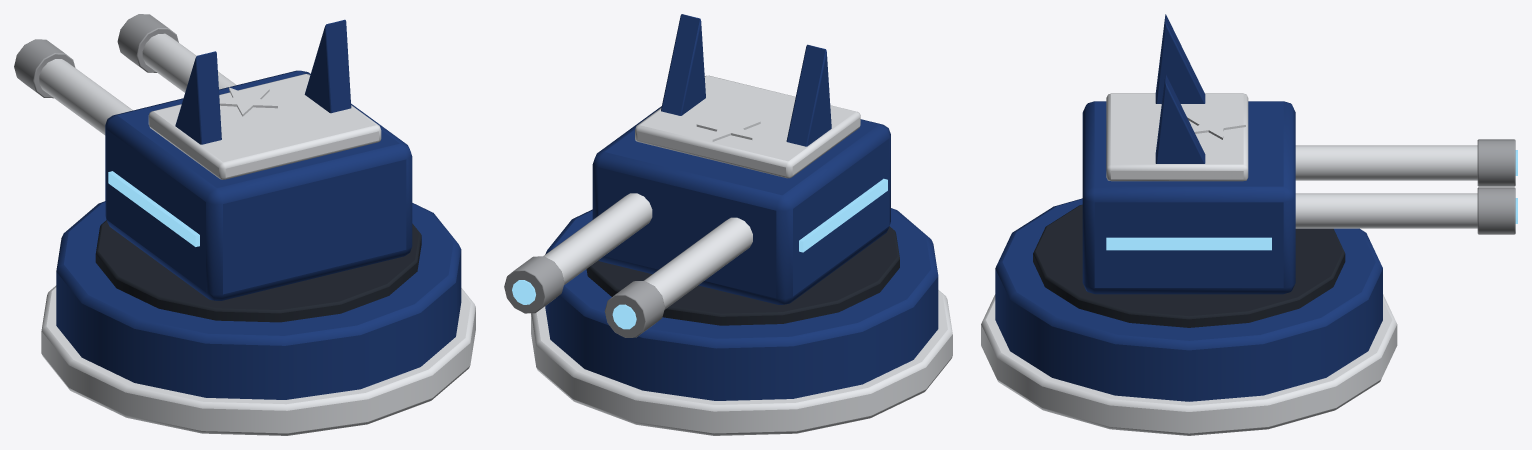
Rendered from shibas_turret_ground.glb.
3 views of the same model, side by side, from view 1: azimuth 30°, elevation 25°; view 2: azimuth 150°, elevation 25°; view 3: azimuth 270°, elevation 25° (orthographic). The views are drawn at different scales.
Visible parts, largest first — view 1: head, base, base_ring, base_top, head_top, barrel_-1, ear_1, ear_-1, barrel_1, muzzle_-1, muzzle_1, strip_-1 (+1 smaller); view 2: base, head, base_ring, head_top, base_top, barrel_1, barrel_-1, ear_-1, ear_1, muzzle_1, muzzle_-1, strip_-1 (+3 smaller); view 3: base, head, base_ring, base_top, head_top, barrel_-1, barrel_1, ear_1, strip_1, ear_-1, muzzle_-1, muzzle_1 (+1 smaller).
Boxes of the visible parts, x1=… form: head: x1=105, y1=70, x2=412, y2=300; base: x1=56, y1=201, x2=461, y2=399; base_ring: x1=41, y1=285, x2=475, y2=435; base_top: x1=95, y1=220, x2=421, y2=322; head_top: x1=148, y1=74, x2=381, y2=179; barrel_-1: x1=39, y1=59, x2=132, y2=135; ear_1: x1=304, y1=19, x2=351, y2=113; ear_-1: x1=175, y1=51, x2=221, y2=144; barrel_1: x1=142, y1=33, x2=236, y2=92; muzzle_-1: x1=14, y1=39, x2=75, y2=98; muzzle_1: x1=117, y1=14, x2=178, y2=72; strip_-1: x1=108, y1=171, x2=199, y2=246; base: x1=545, y1=208, x2=938, y2=400; head: x1=592, y1=106, x2=890, y2=304; base_ring: x1=531, y1=290, x2=952, y2=435; head_top: x1=635, y1=75, x2=860, y2=178; base_top: x1=586, y1=226, x2=899, y2=325; barrel_1: x1=543, y1=193, x2=652, y2=284; barrel_-1: x1=644, y1=217, x2=752, y2=309; ear_-1: x1=786, y1=44, x2=831, y2=146; ear_1: x1=661, y1=14, x2=705, y2=115; muzzle_1: x1=504, y1=256, x2=564, y2=313; muzzle_-1: x1=604, y1=281, x2=664, y2=337; strip_-1: x1=799, y1=178, x2=887, y2=252; base: x1=995, y1=198, x2=1382, y2=401; head: x1=1082, y1=101, x2=1295, y2=294; base_ring: x1=981, y1=294, x2=1397, y2=435; base_top: x1=1033, y1=204, x2=1345, y2=327; head_top: x1=1106, y1=93, x2=1248, y2=181; barrel_-1: x1=1295, y1=145, x2=1477, y2=180; barrel_1: x1=1295, y1=193, x2=1477, y2=228; ear_1: x1=1155, y1=74, x2=1205, y2=163; strip_1: x1=1106, y1=237, x2=1271, y2=250; ear_-1: x1=1155, y1=14, x2=1205, y2=103; muzzle_-1: x1=1477, y1=139, x2=1515, y2=186; muzzle_1: x1=1477, y1=187, x2=1515, y2=234.
Bounding box in the file's own units: 1.76 × 1.44 × 2.27.
